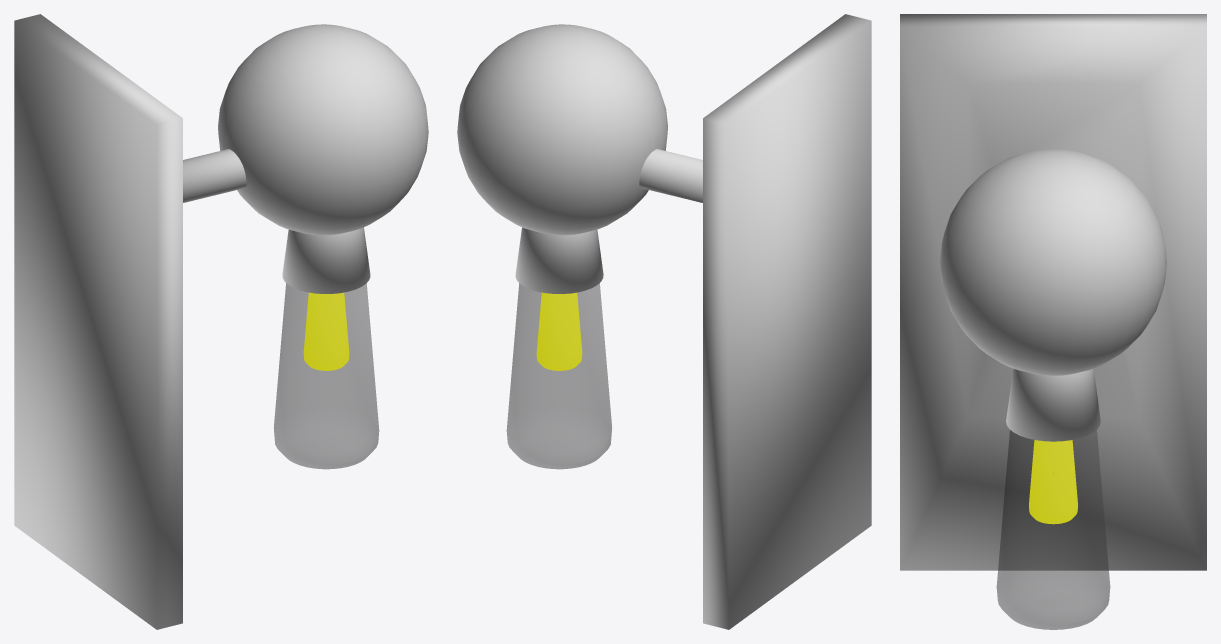
File: WallLight.fbx
3 renders of one model, left to right at view 1: azimuth 30°, elevation 25°; view 2: azimuth 150°, elevation 25°; view 3: azimuth 270°, elevation 25°, orthographic. The views are drawn at different scales.
Parts seen in each view (by area): view 1: Cube, Sphere, Cylinder.002, Cylinder.001, Cylinder.003, Cylinder; view 2: Cube, Sphere, Cylinder.002, Cylinder.001, Cylinder.003, Cylinder; view 3: Cube, Sphere, Cylinder.002, Cylinder.001, Cylinder.003.
Part boxes in pixels (bbox=[...]): Cube: bbox=[14, 14, 182, 629]; Sphere: bbox=[218, 24, 428, 235]; Cylinder.002: bbox=[274, 283, 379, 469]; Cylinder.001: bbox=[282, 227, 370, 293]; Cylinder.003: bbox=[303, 292, 349, 370]; Cylinder: bbox=[183, 149, 246, 202]; Cube: bbox=[703, 14, 871, 629]; Sphere: bbox=[457, 24, 667, 235]; Cylinder.002: bbox=[506, 283, 611, 469]; Cylinder.001: bbox=[515, 227, 603, 293]; Cylinder.003: bbox=[536, 292, 582, 370]; Cylinder: bbox=[639, 149, 702, 202]; Cube: bbox=[900, 14, 1206, 570]; Sphere: bbox=[940, 149, 1166, 375]; Cylinder.002: bbox=[996, 430, 1110, 629]; Cylinder.001: bbox=[1006, 368, 1100, 441]; Cylinder.003: bbox=[1029, 440, 1077, 524].
Bounding box in the file's own units: 138 × 202 × 104.
